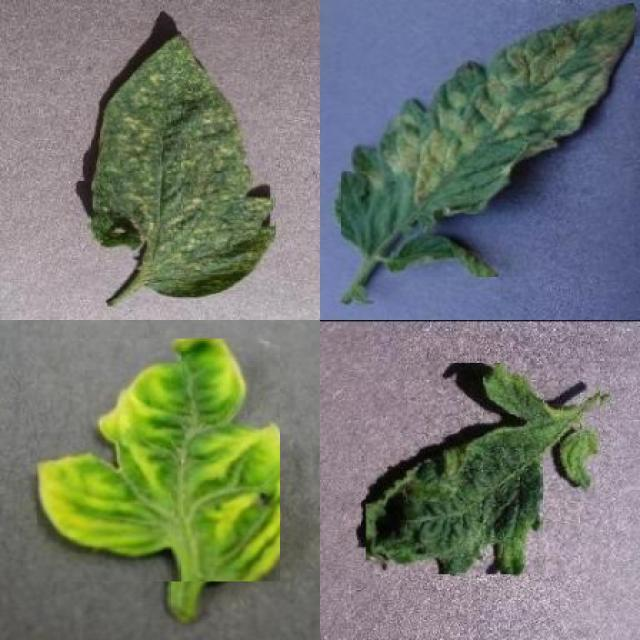Leaf Mold: (340, 3, 634, 277)
Mosaic Virus: (366, 362, 600, 574)
Spider Mites: (87, 32, 276, 298)
Yellow Leaf Curl Virus: (38, 339, 281, 582)
